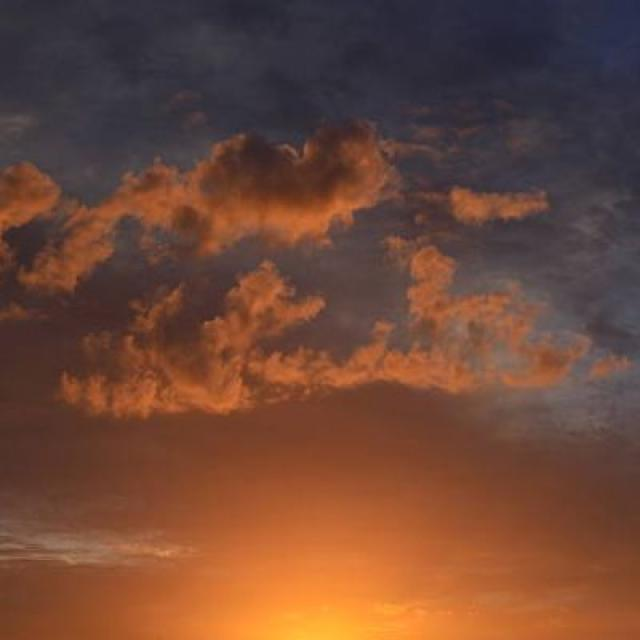As: (1, 82, 640, 509)
